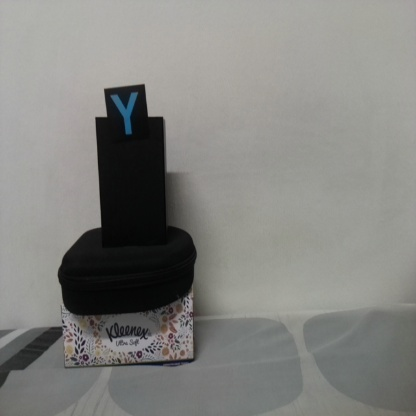id_14: (105, 89, 147, 142)
